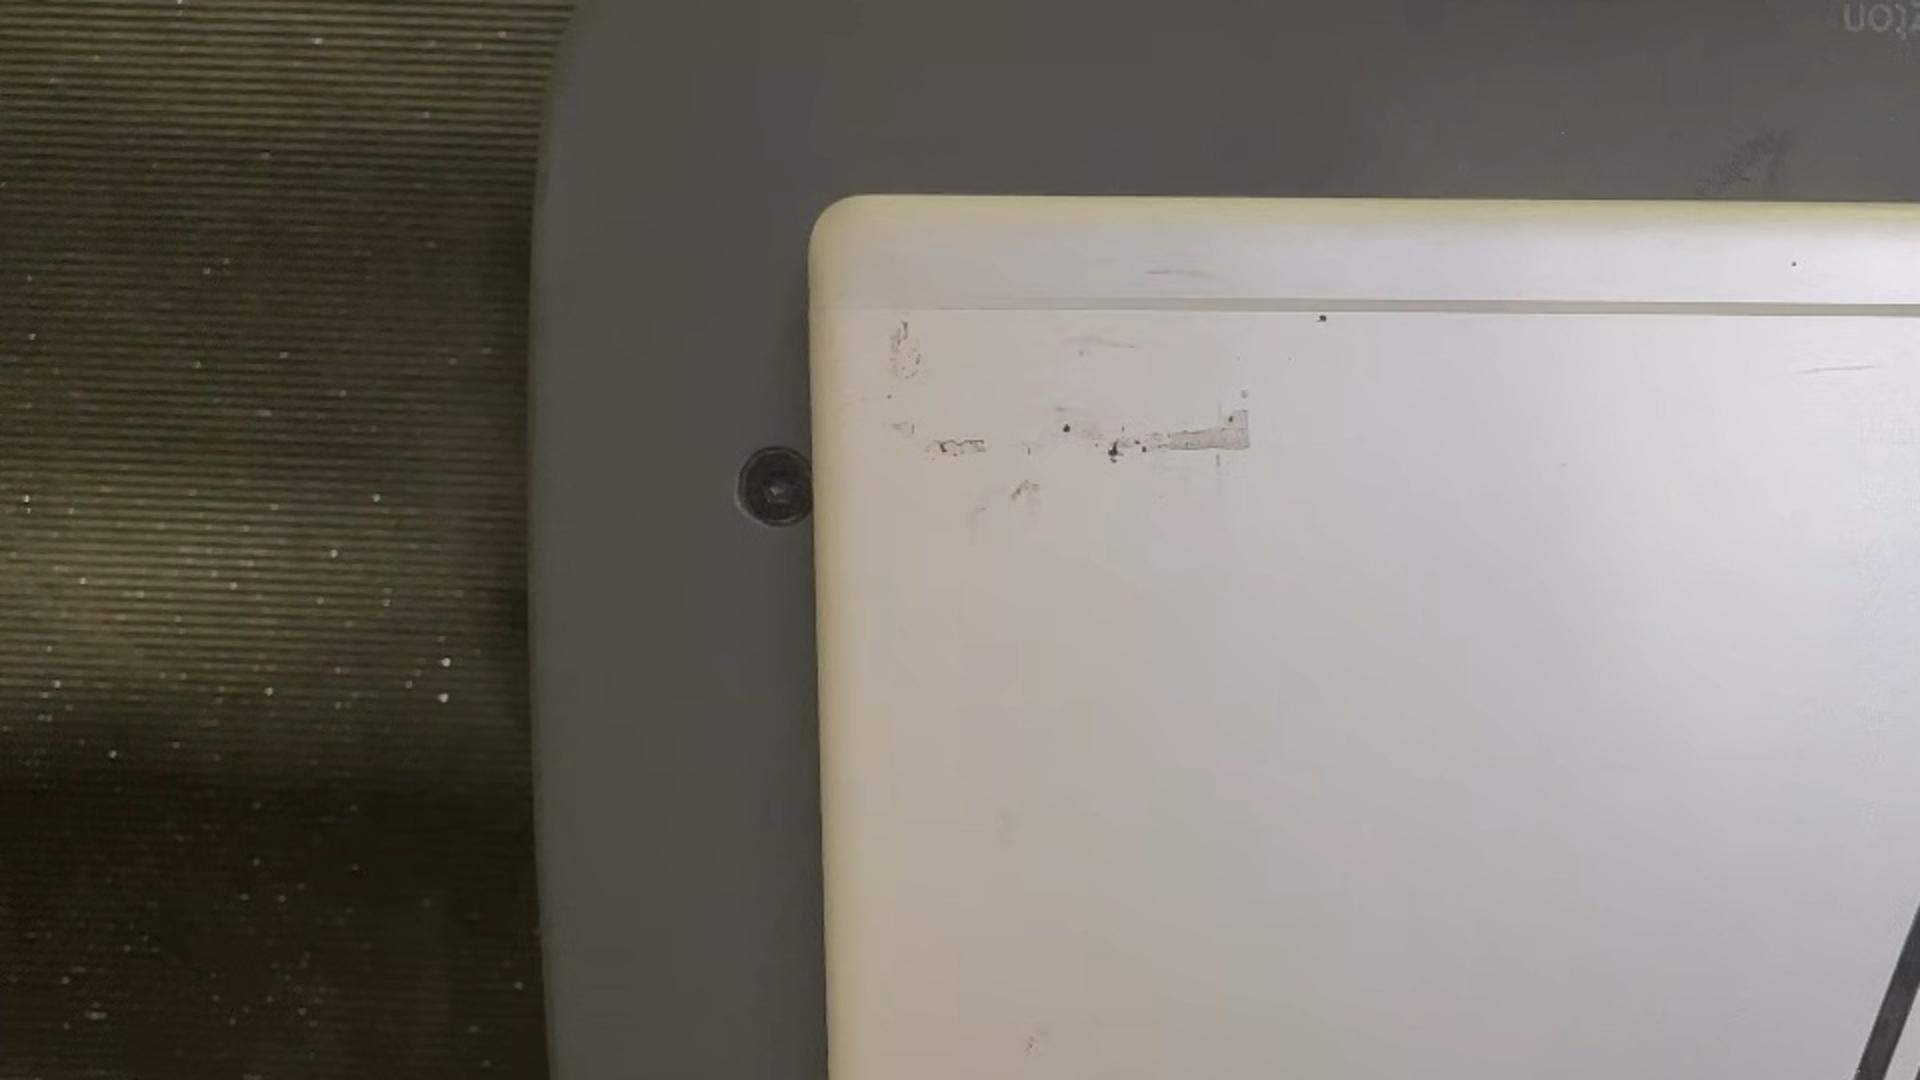chip: (1312, 311, 1333, 330), (1789, 258, 1803, 268)
scratches: (1792, 364, 1888, 380)
